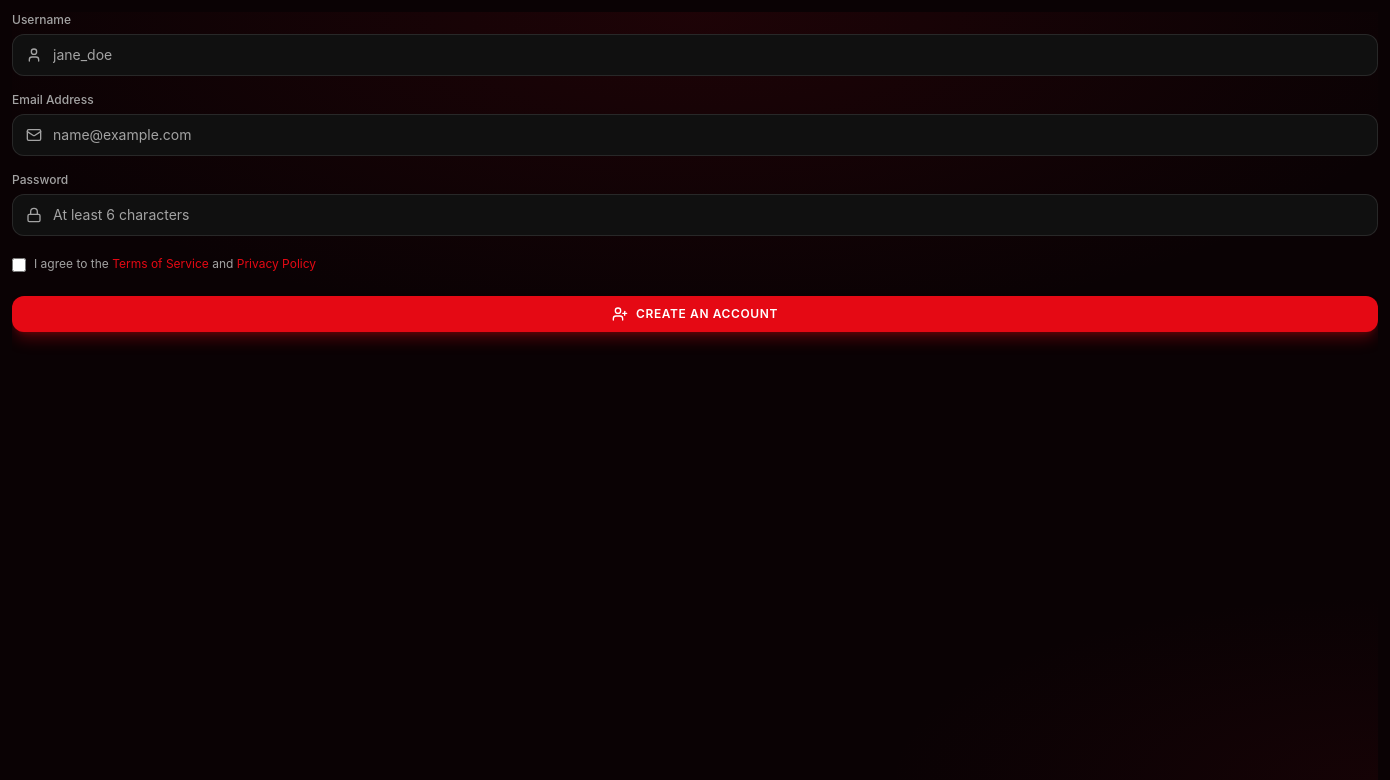
it: registration errors › shows the username length error on the form without sending an invalid request
Type "ab" into the field labelled "Username".
click(695, 55); type("ab")  # box left=12, top=34, right=1378, bottom=76
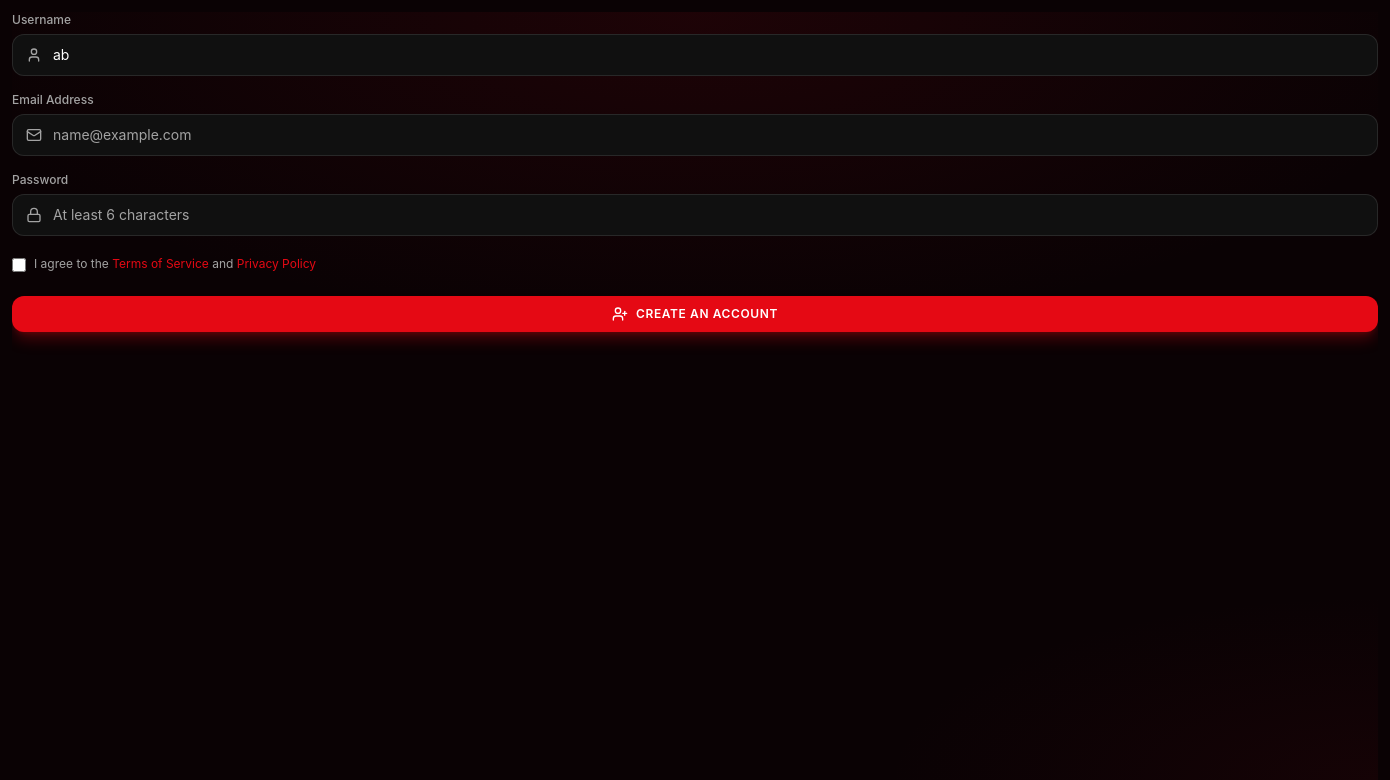
Type "jane@example.test" into the field labelled "Email Address".
click(695, 135); type("jane@example.test")  # box left=12, top=114, right=1378, bottom=156
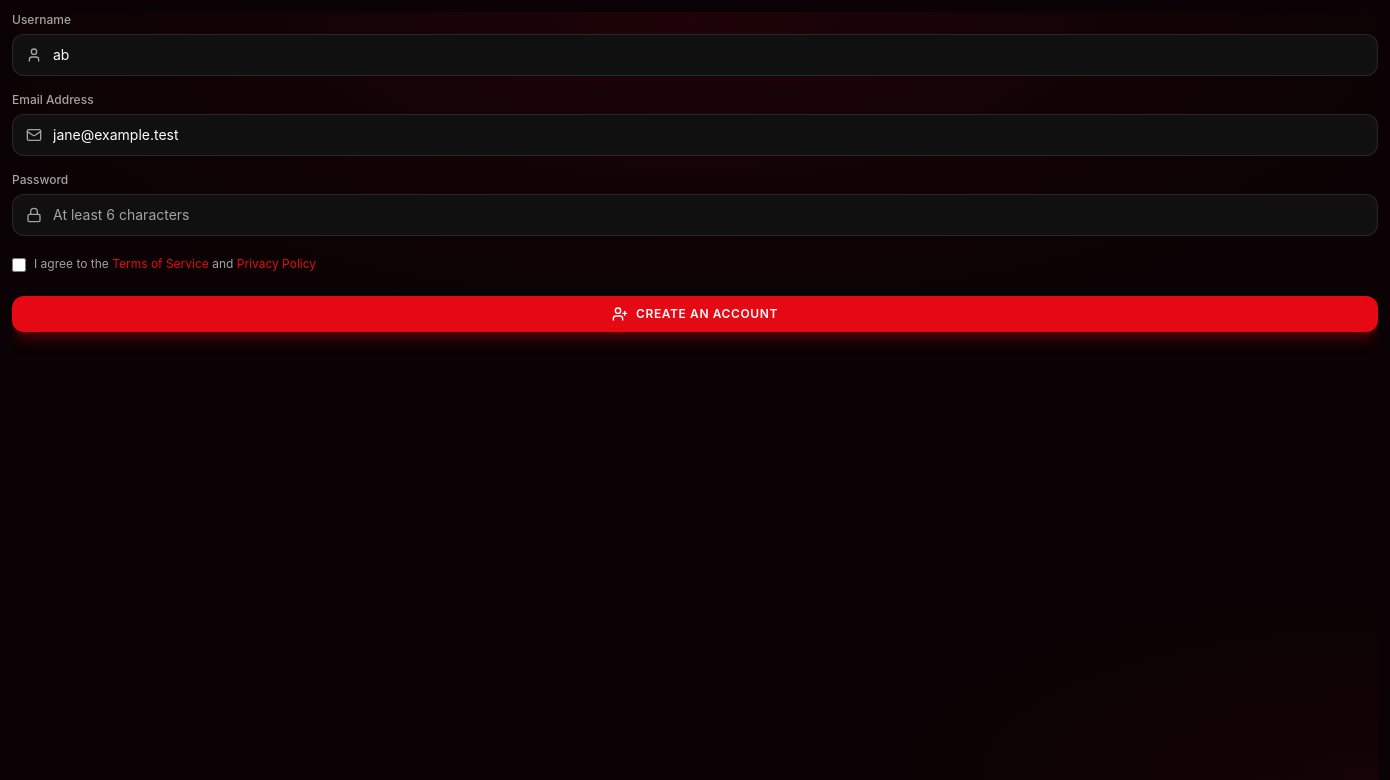
Type "strong-password" into the password field labelled "Password".
click(695, 215); type("strong-password")  # box left=12, top=194, right=1378, bottom=236
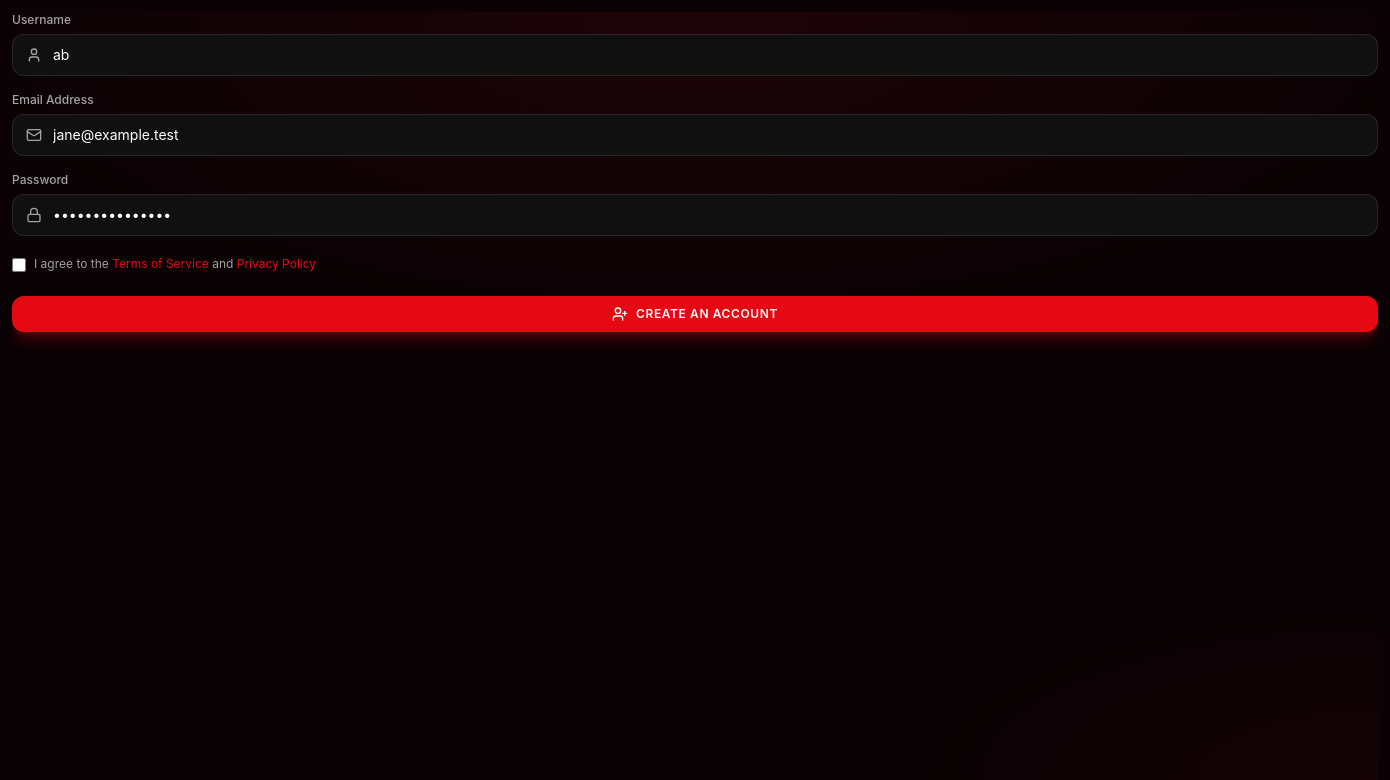
Click the checkbox.
click(19, 265)  # box left=12, top=258, right=26, bottom=272
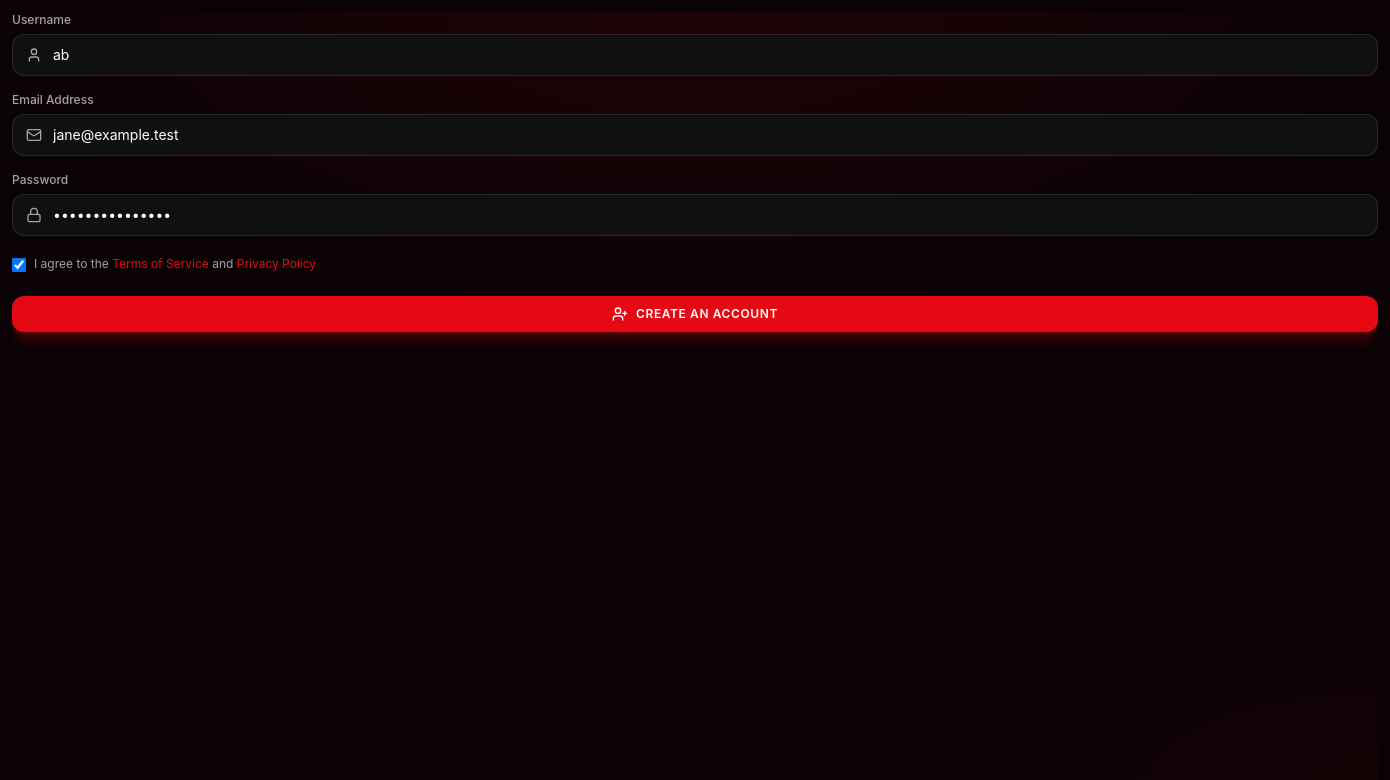
Click the button "Create an account".
click(695, 314)  # box left=12, top=296, right=1378, bottom=332
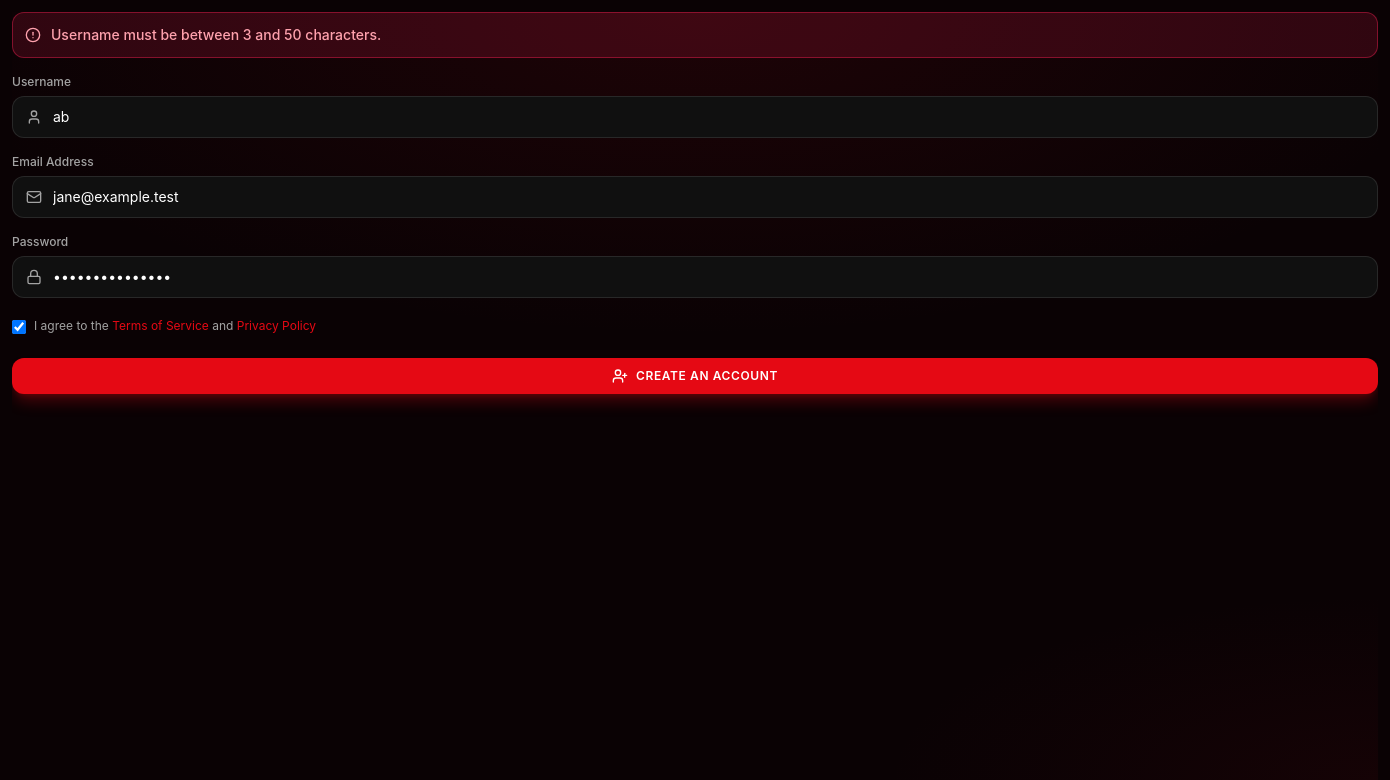
Check: the message reads "Username must be between 3 and 50 characters.", box left=51, top=26, right=381, bottom=43
